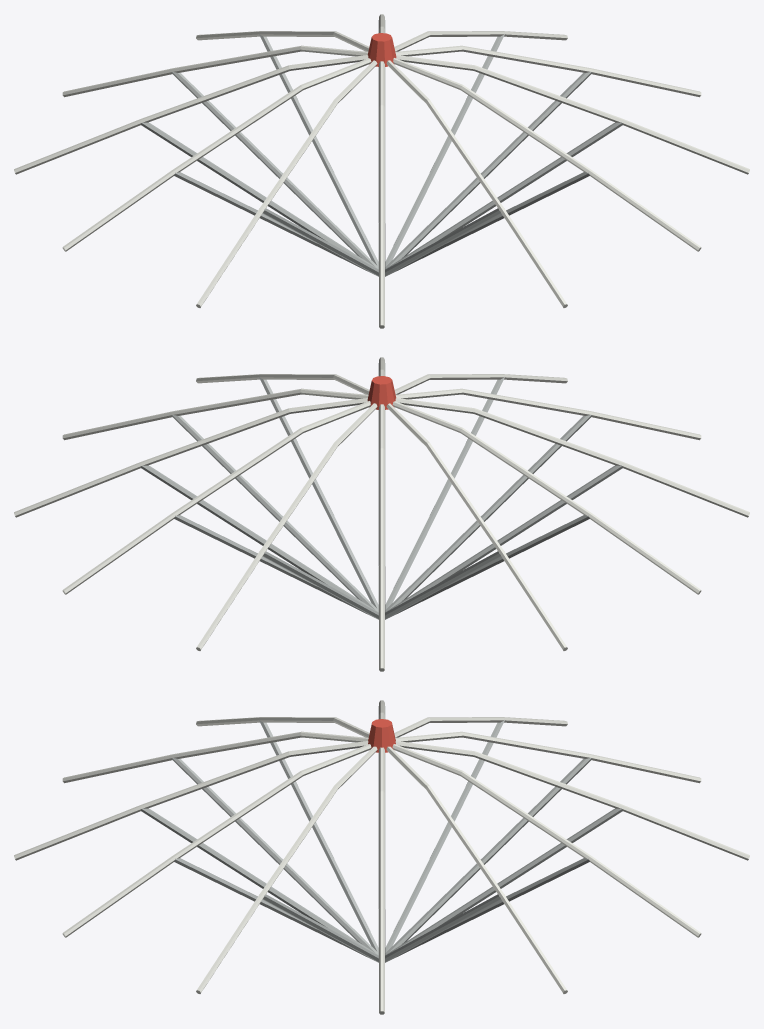
Rendered from Module_Umbrella_Ribs.fbx.
The picture shows the model from 3 angles, top to bottom: view 1: azimuth 30°, elevation 25°; view 2: azimuth 150°, elevation 25°; view 3: azimuth 270°, elevation 25°; orthographic projection.
Parts seen in each view (by area): view 1: Module_Umbrella_Ribs__LPCXFER; view 2: Module_Umbrella_Ribs__LPCXFER; view 3: Module_Umbrella_Ribs__LPCXFER.
Boxes of the visible parts, x1,y1,x2,y2 form: Module_Umbrella_Ribs__LPCXFER: (14,14,749,328); Module_Umbrella_Ribs__LPCXFER: (14,357,749,671); Module_Umbrella_Ribs__LPCXFER: (14,700,749,1014).
Size of the model in its own units: 199 by 71.64 by 199.
